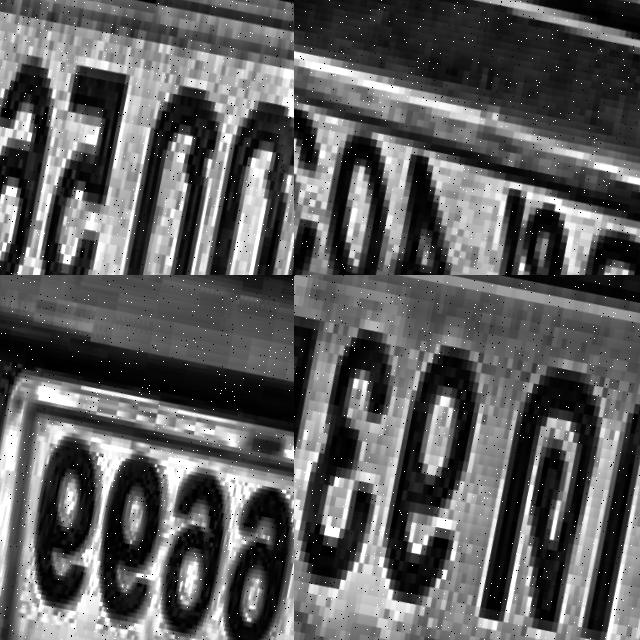license-plate: (294, 275, 640, 640), (294, 0, 640, 275), (0, 353, 294, 640), (0, 0, 294, 275)
